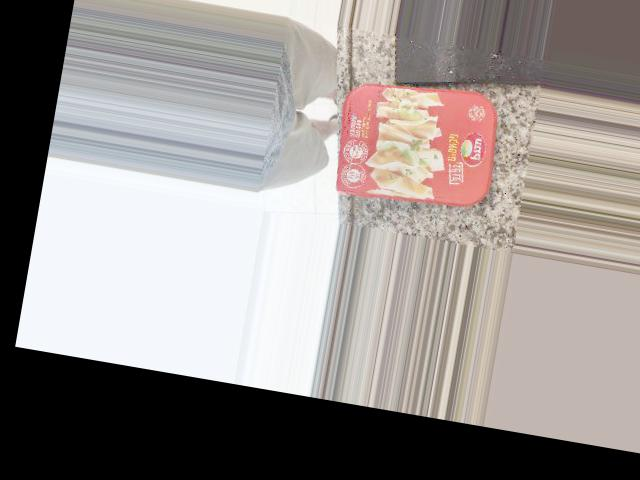cheese: (300, 48, 475, 198)
